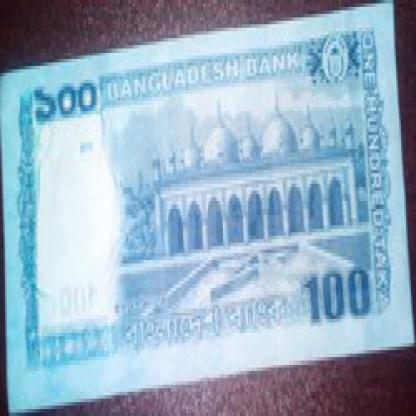one hundred taka: (304, 260, 375, 326), (28, 80, 113, 132)
